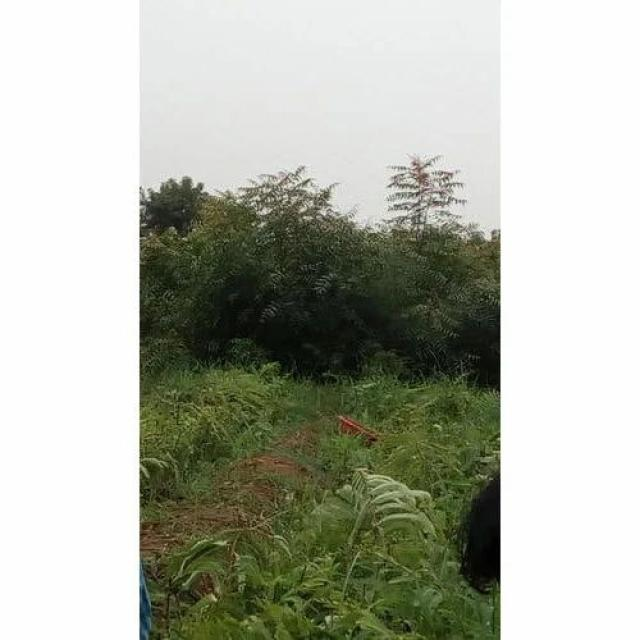Medicinal-Neem: (245, 164, 371, 338), (379, 155, 484, 227)
